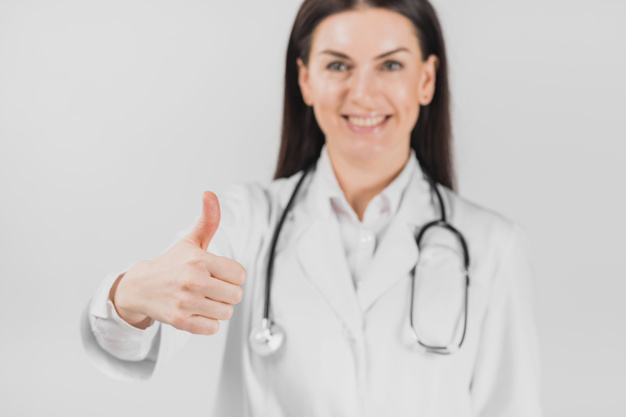thumbsup: (166, 188, 248, 337)
